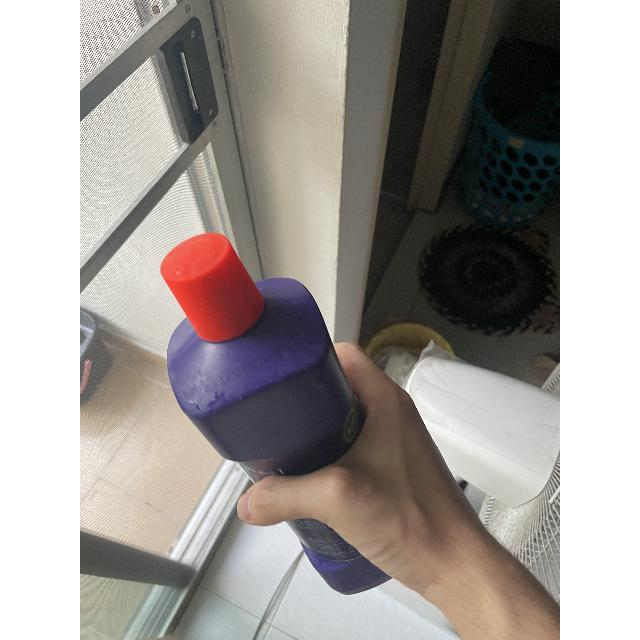Botella de plastico: (160, 233, 433, 595)
